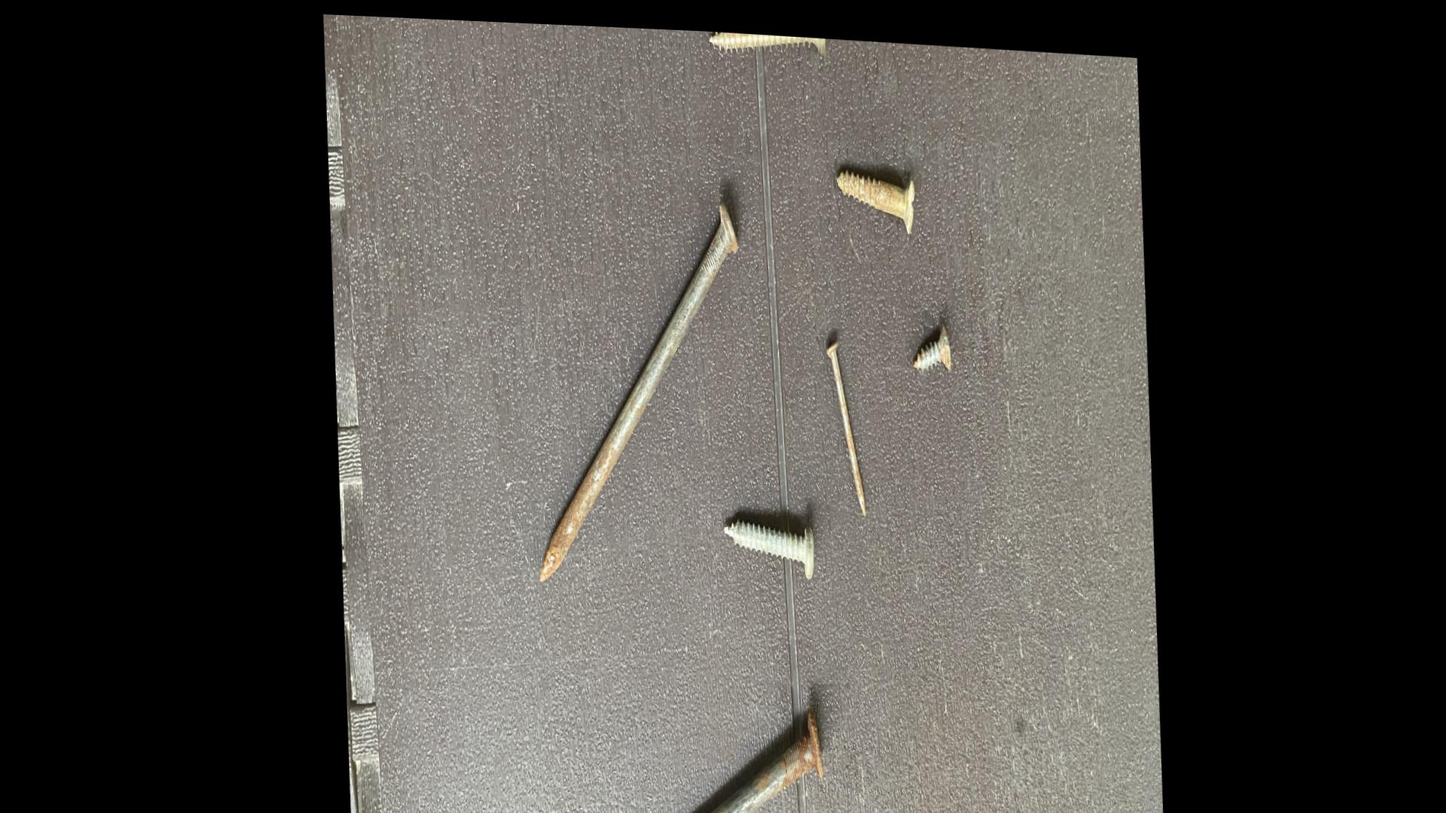nail: (491, 146, 767, 604), (561, 674, 832, 813), (820, 309, 878, 531)
screw: (818, 115, 939, 253), (700, 476, 827, 600), (702, 25, 841, 92), (899, 296, 962, 397)
